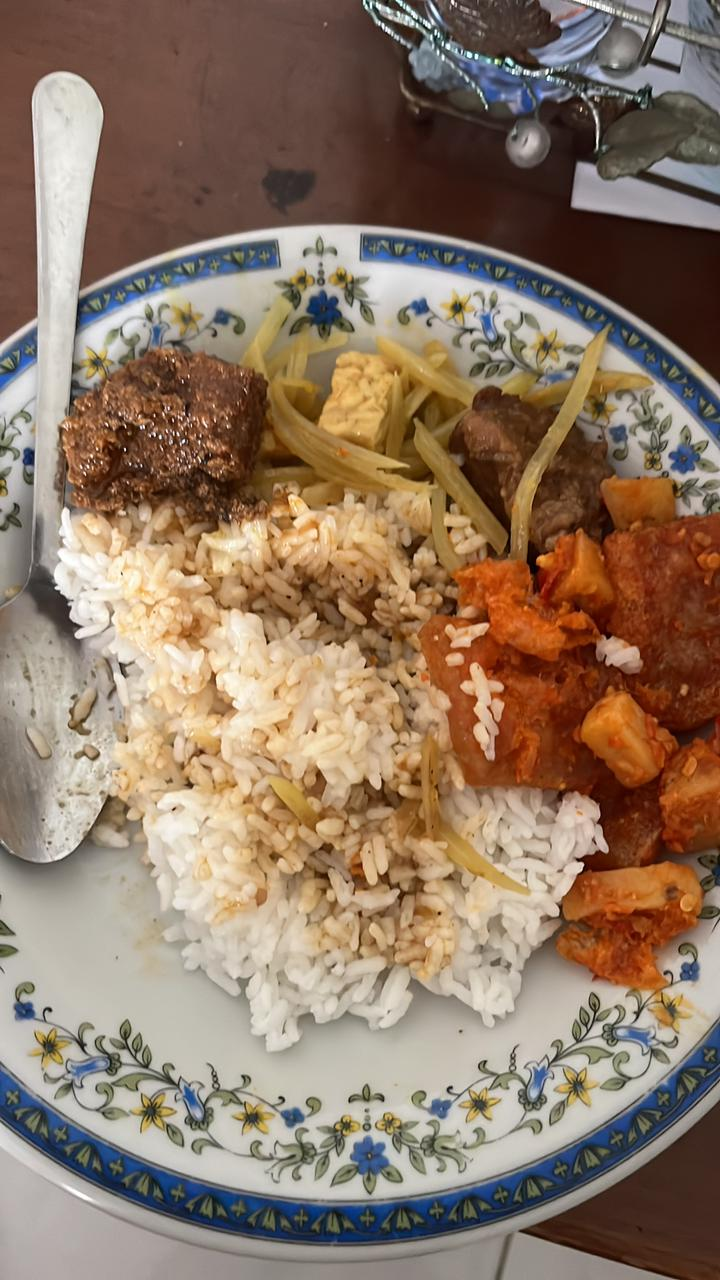buah_sayur_lainnya: (262, 327, 490, 478)
daging: (63, 340, 248, 480)
makanan_berpati: (102, 562, 420, 1010)
